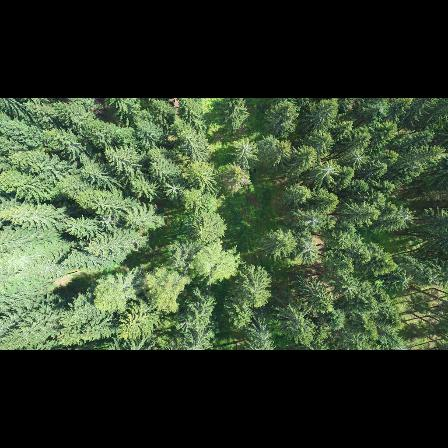Sick: (234, 136, 258, 164), (295, 239, 319, 264), (390, 205, 416, 228), (298, 207, 322, 231), (159, 178, 186, 198), (315, 156, 340, 177), (348, 147, 368, 168)
